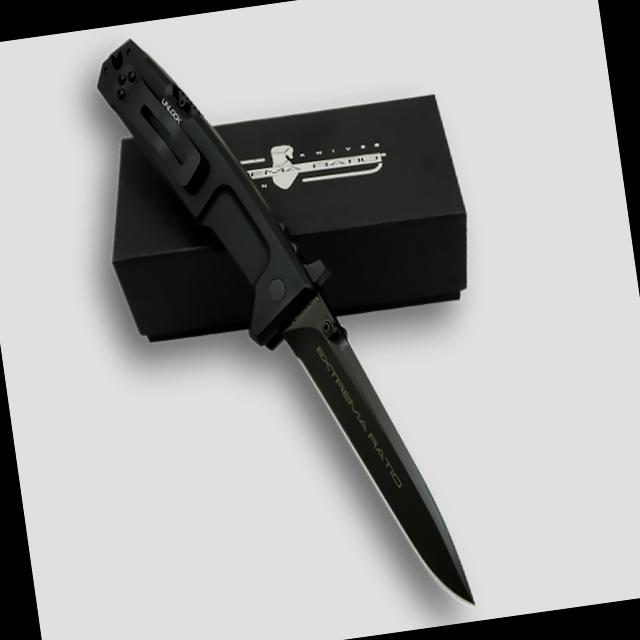knife: (267, 266, 478, 635)
